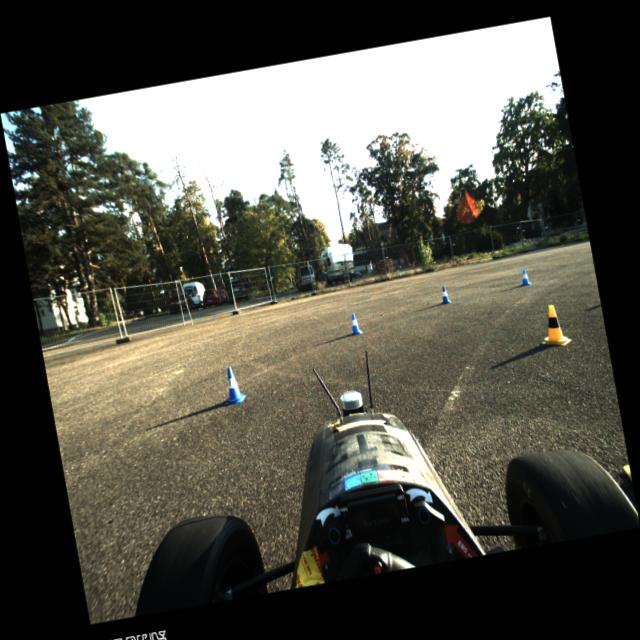blue_cone: (218, 364, 248, 404), (346, 312, 363, 334), (518, 268, 532, 286), (438, 285, 451, 304)
yellow_cone: (536, 302, 572, 348)
